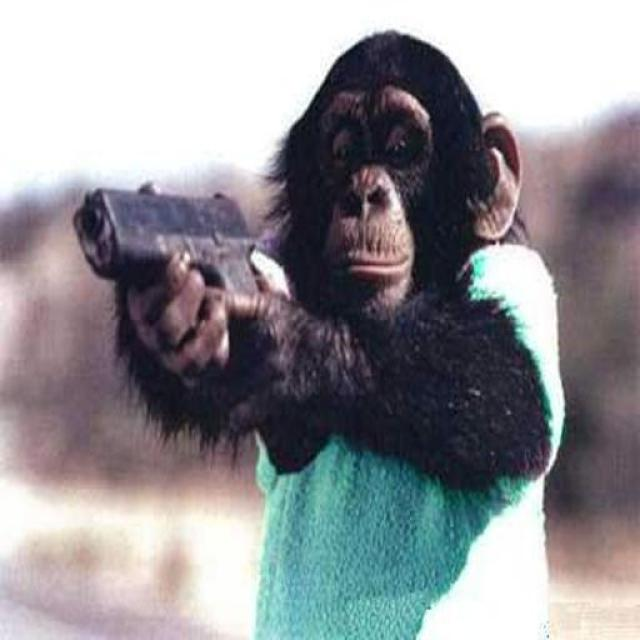pistol: (71, 182, 263, 305)
